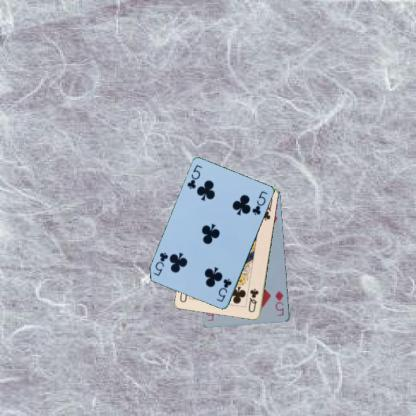5c: (214, 276, 233, 304), (185, 162, 203, 191)
5d: (273, 288, 285, 318)
Qc: (246, 286, 260, 314)
